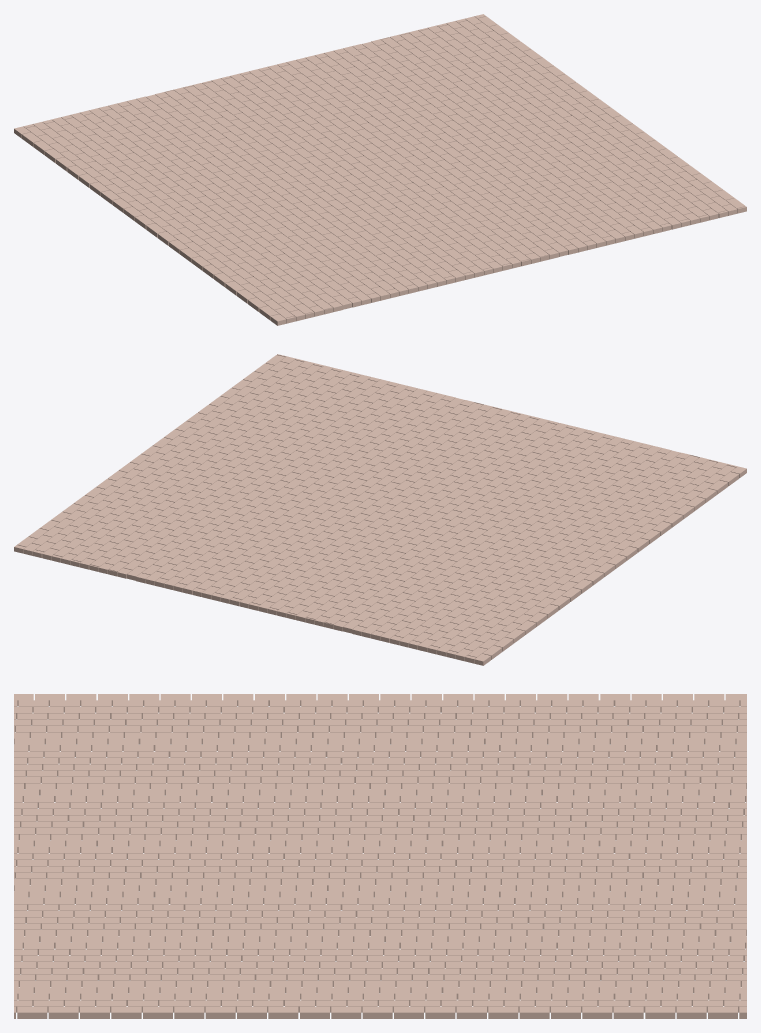
The model's file is Asset_floor.fbx.
3 views of the same model, one above another, from view 1: azimuth 30°, elevation 25°; view 2: azimuth 150°, elevation 25°; view 3: azimuth 270°, elevation 25° (orthographic). The views are drawn at different scales.
Parts seen in each view (by area): view 1: Cube.005; view 2: Cube.005; view 3: Cube.005.
Boxes of the visible parts, x1,y1,x2,y2 form: Cube.005: [14, 14, 746, 325]; Cube.005: [14, 354, 746, 665]; Cube.005: [14, 694, 746, 1018].
Bounding box in the file's own units: 821 × 7.43 × 798.
